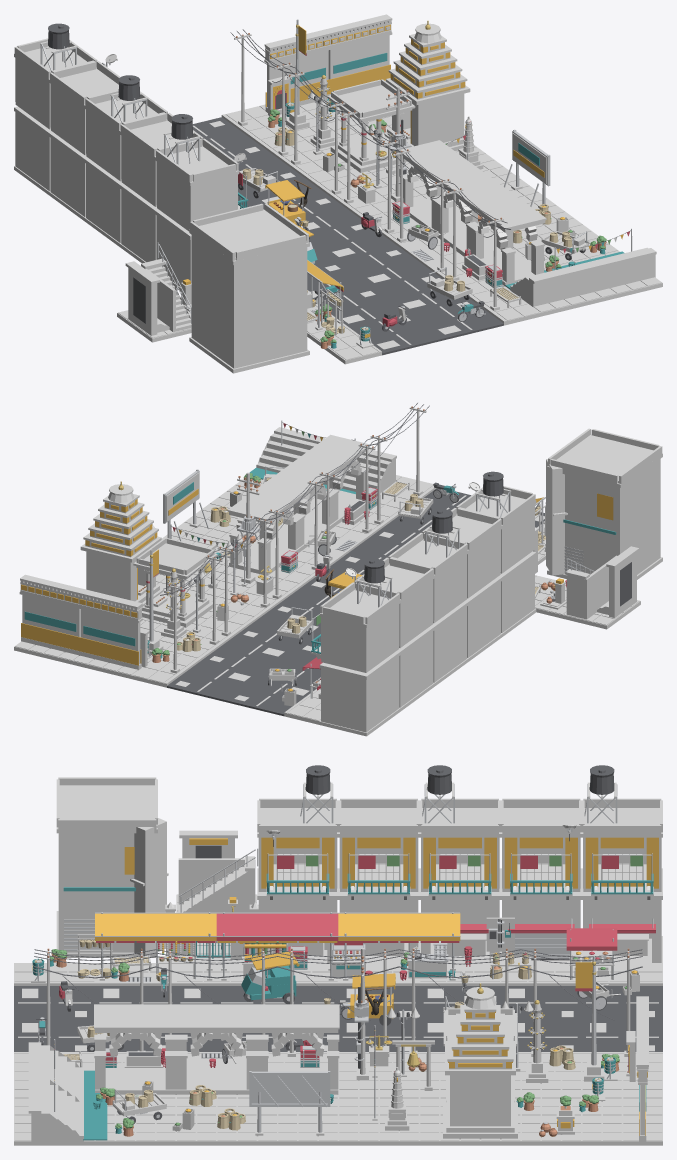
File: Test Street.fbx
3 renders of one model, top to bottom at view 1: azimuth 30°, elevation 25°; view 2: azimuth 150°, elevation 25°; view 3: azimuth 270°, elevation 25°, orthographic. The views are drawn at different scales.
Visible parts, largest first — view 1: street, food cart; view 2: street; view 3: street, food cart.
Boxes of the visible parts, <box> form: street: <box>14,14,662,373</box>; food cart: <box>265,180,309,239</box>; street: <box>14,403,662,736</box>; street: <box>14,765,662,1145</box>; food cart: <box>324,973,395,1025</box>.
Bounding box in the file's own units: 2885 × 989 × 3200.
